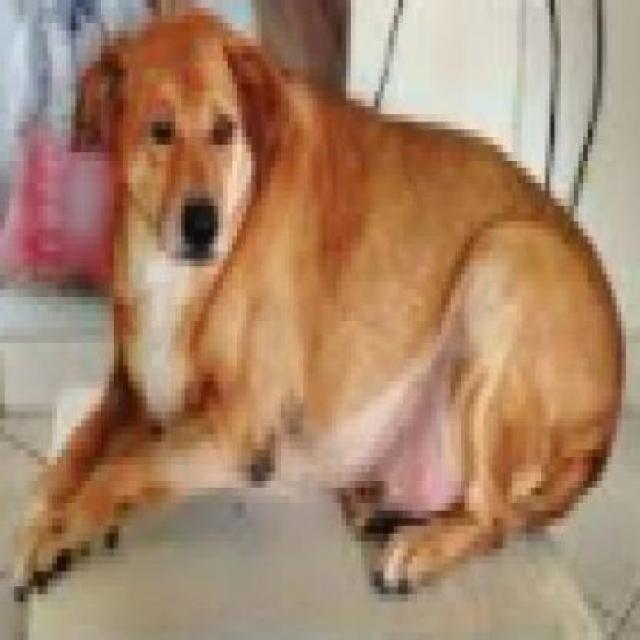Dog: (0, 3, 625, 611)
